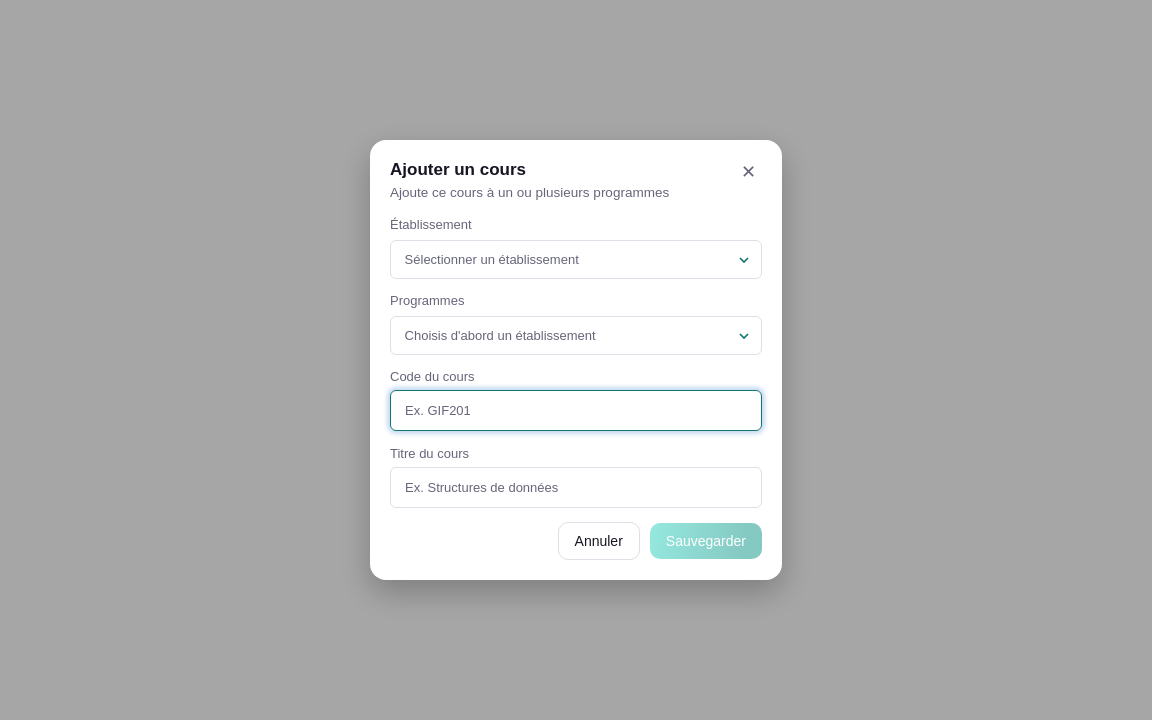
Test case: AddCoursePopup › affiche « aucun établissement » quand le chargement renvoie vide ou échoue
Step 1. Click the element showing "Sélectionner un établissement" → (576, 260), box [390,240,762,279]
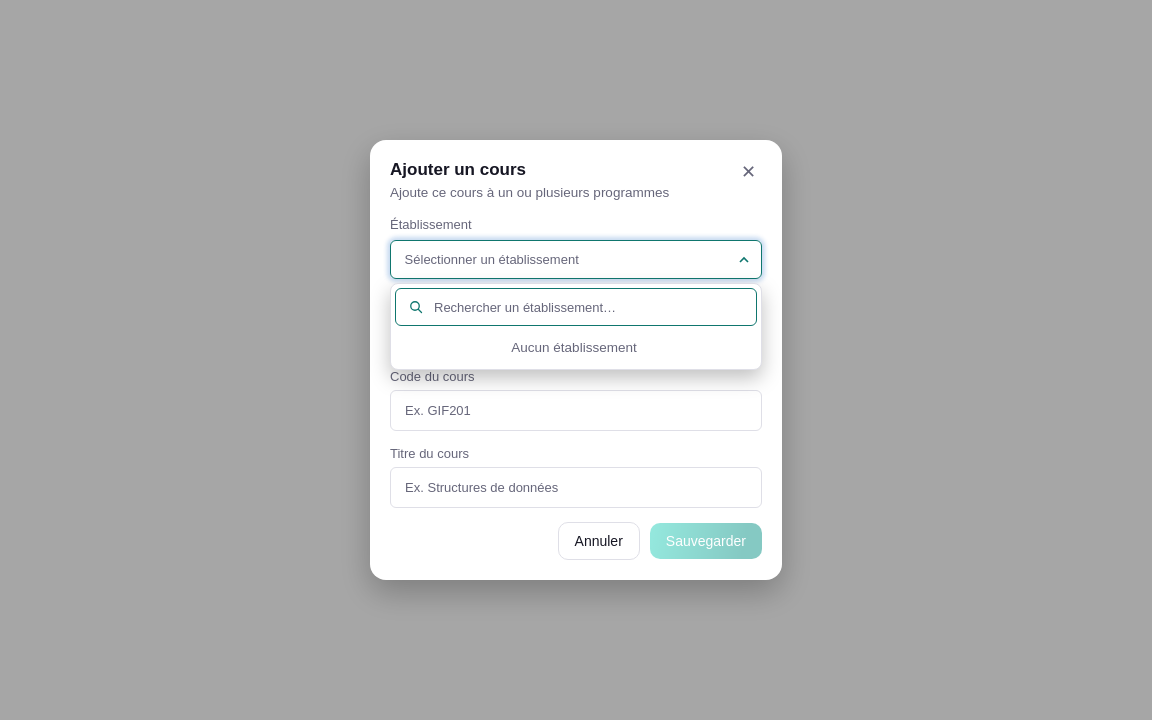
Expected: the list item "Aucun établissement" is shown, [511,340,637,355]
